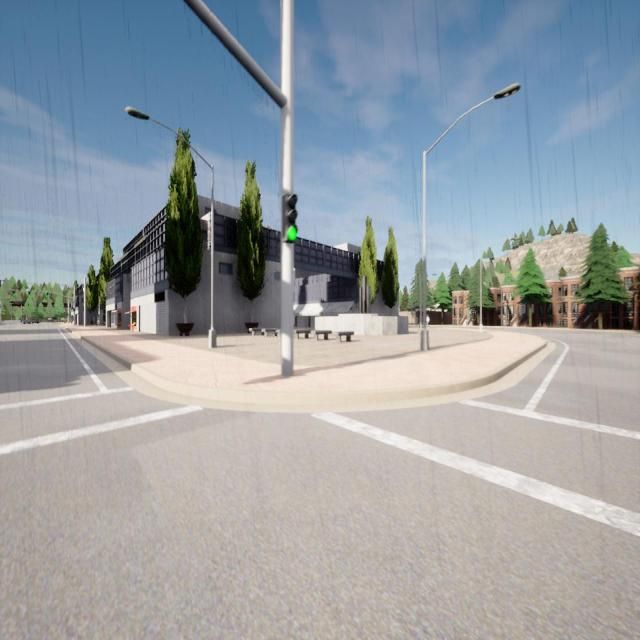Vehicle: (24, 319, 31, 325), (32, 319, 38, 324), (48, 317, 52, 323)
traffic_light: (282, 194, 298, 242), (13, 291, 15, 297), (0, 280, 1, 287), (47, 293, 48, 298), (29, 292, 30, 296)
